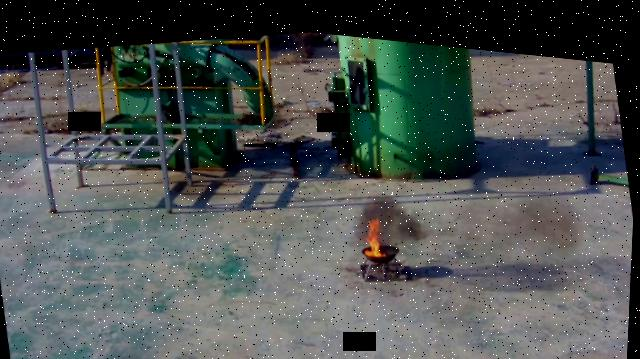fire: (362, 207, 388, 250)
smoke: (498, 166, 596, 257), (346, 174, 430, 244)
